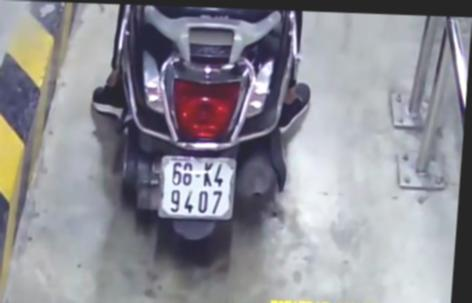License_Plate: (148, 151, 239, 227)
